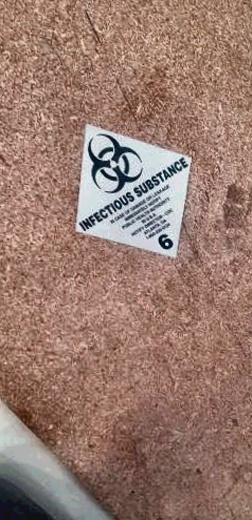infectious-substance: (72, 121, 194, 260)
